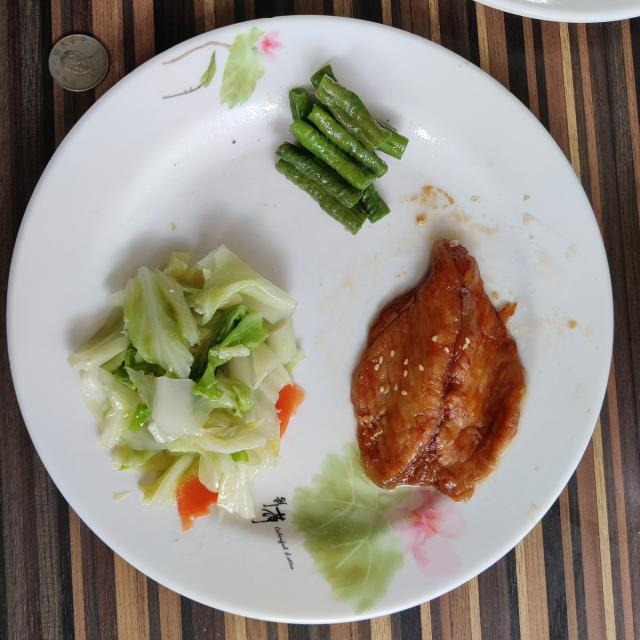Kabayaki sea bream fillet: (351, 239, 525, 501)
cabbage: (68, 245, 305, 529)
coin: (49, 35, 109, 91)
